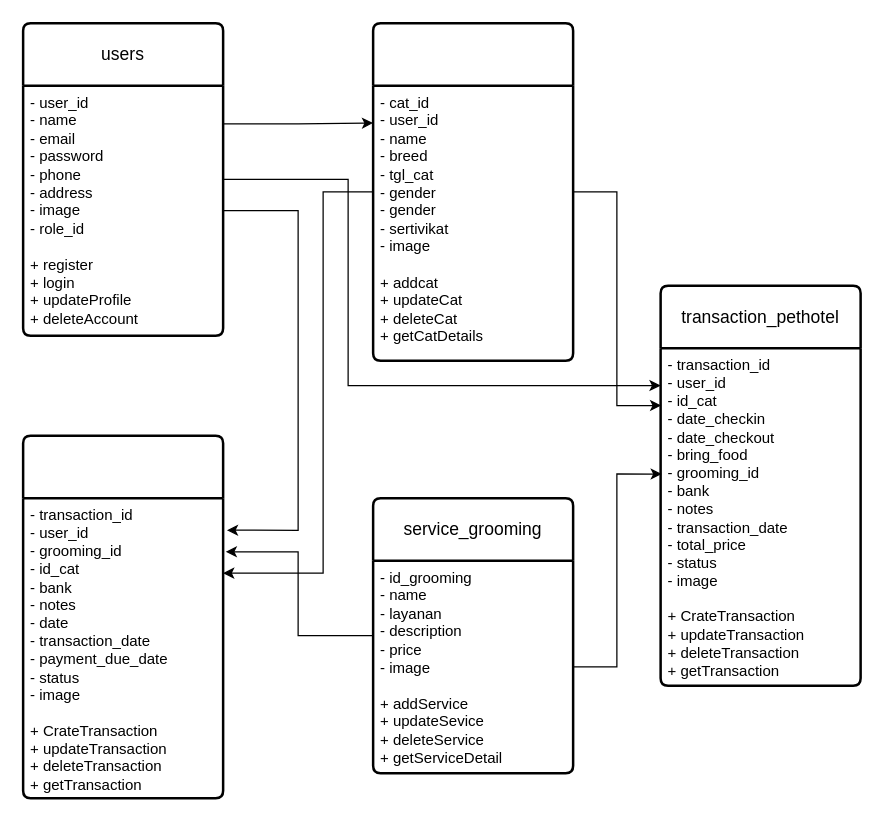
Image size: 883x820. Some labels were removed from this diagram. The shapes that lost their labels are listed below. From the top down, each one's box as (x1, y1, x2, y2) in pixels, then its label:
(371, 21, 574, 361): cats
(21, 434, 224, 799): transaction_grooming
